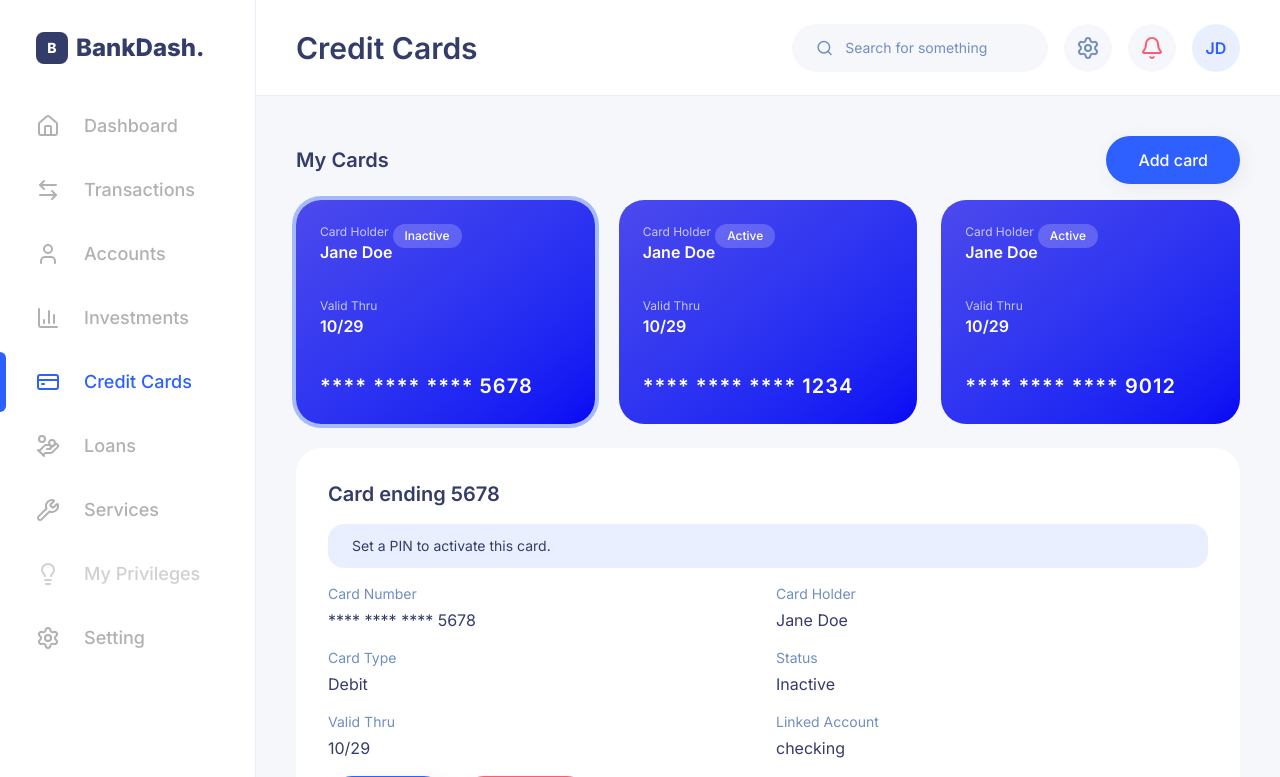
Test case: Credit Cards › AC4: shows status, expiry and linked account in the details
Click the button with aria-label "Card ending 1234". click: [677, 232]
box: [619,200,917,424]
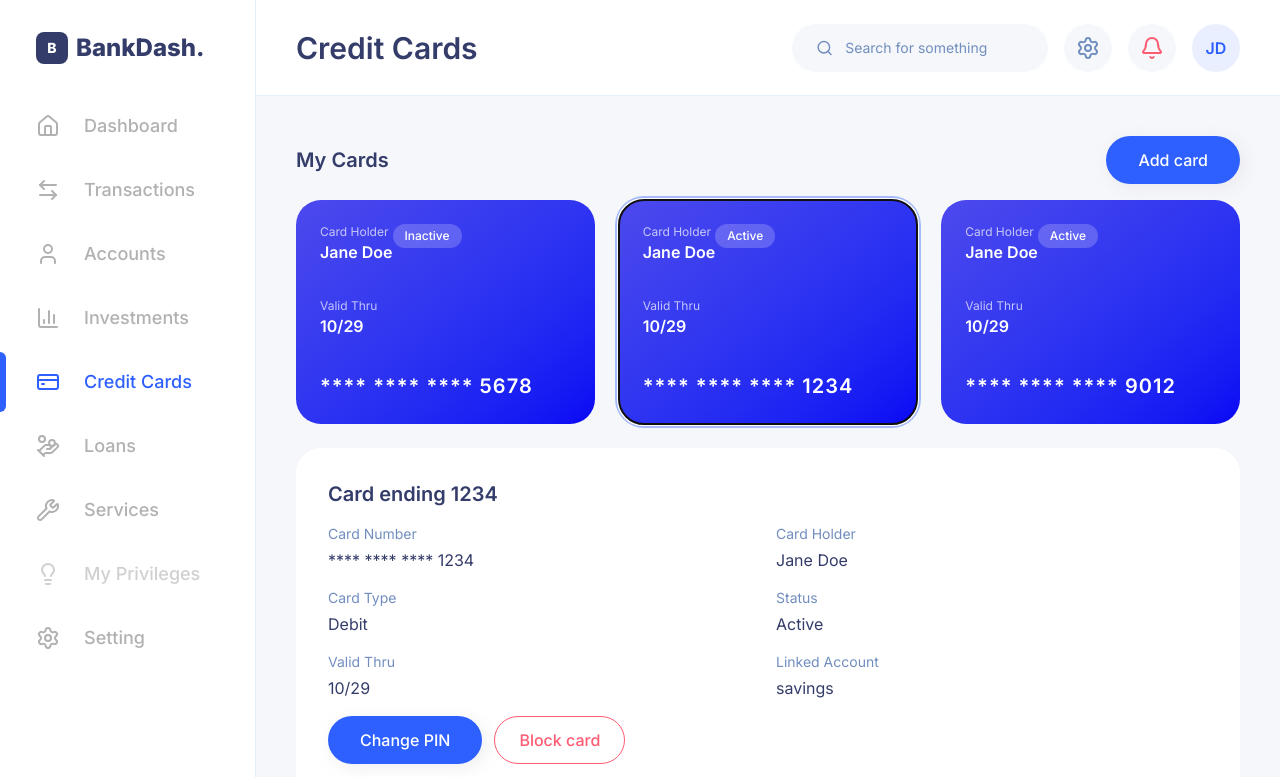
Expected: the text "Active" below "Status" is shown, [776,614,823,634]
Result: the heading "Card ending 1234" is shown at [328,482,498,506]
Result: the text "savings" is shown at [776,678,834,698]
